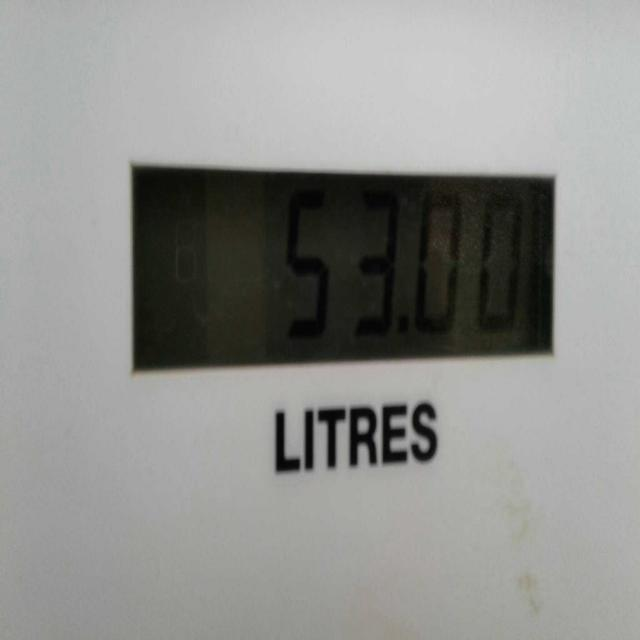.: (394, 312, 410, 336)
0: (416, 193, 464, 332), (475, 194, 521, 331)
3: (350, 192, 405, 344)
5: (280, 190, 332, 342)
screen: (129, 162, 554, 370)
